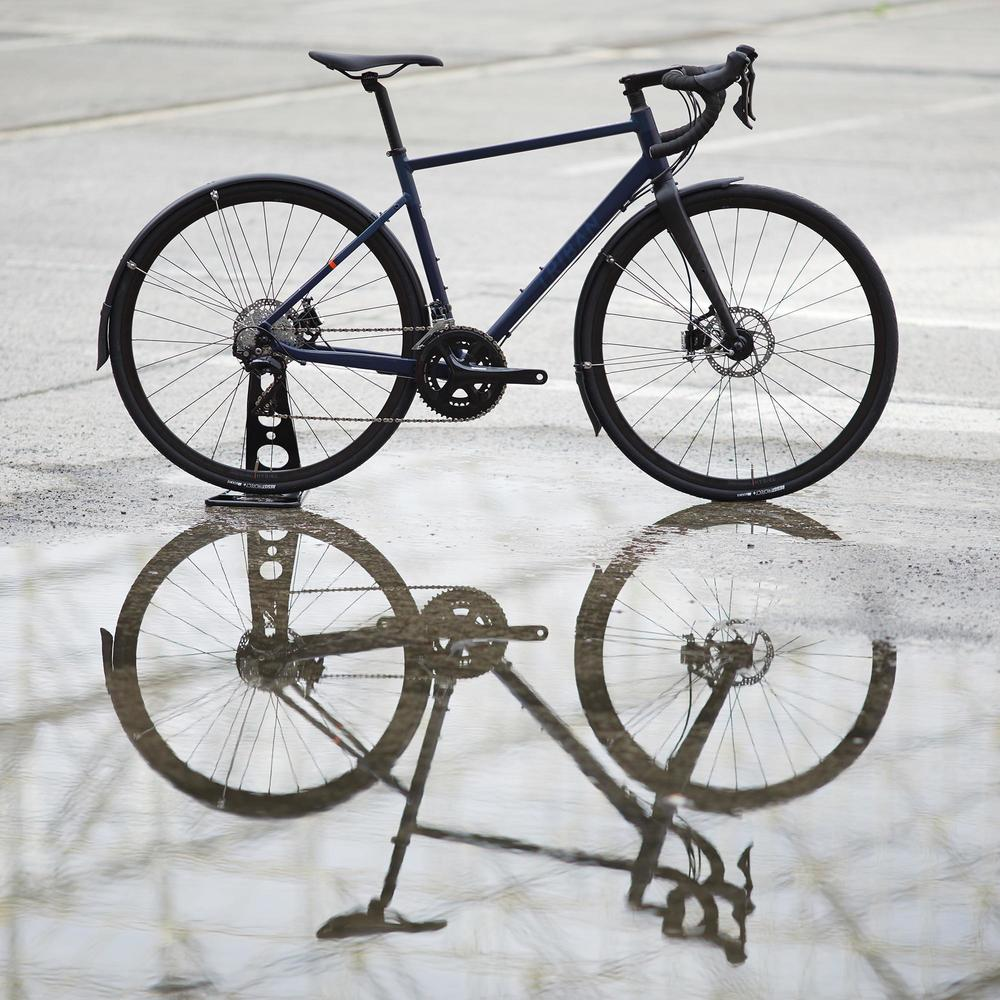RoadBike: (80, 38, 925, 509)
